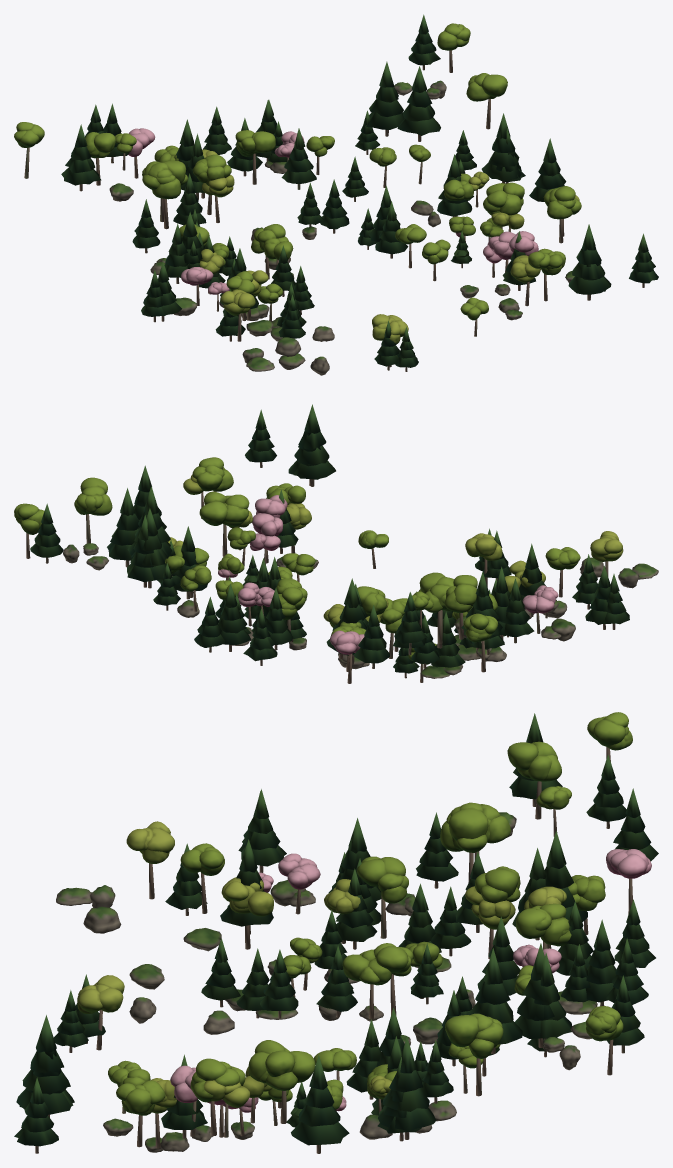
Rendered from SM_ArenaTrees.glb.
3 views of the same model, one above another, from view 1: azimuth 30°, elevation 25°; view 2: azimuth 150°, elevation 25°; view 3: azimuth 270°, elevation 25° (orthographic). The views are drawn at different scales.
Visible parts, largest first — view 1: ArenaTrees; view 2: ArenaTrees; view 3: ArenaTrees.
Boxes of the visible parts, left/top/right/bottom form: ArenaTrees: left=14, top=14, right=658, bottom=375; ArenaTrees: left=14, top=404, right=658, bottom=683; ArenaTrees: left=14, top=712, right=658, bottom=1153.
Bounding box in the file's own units: 52.46 × 19.25 × 46.51.
